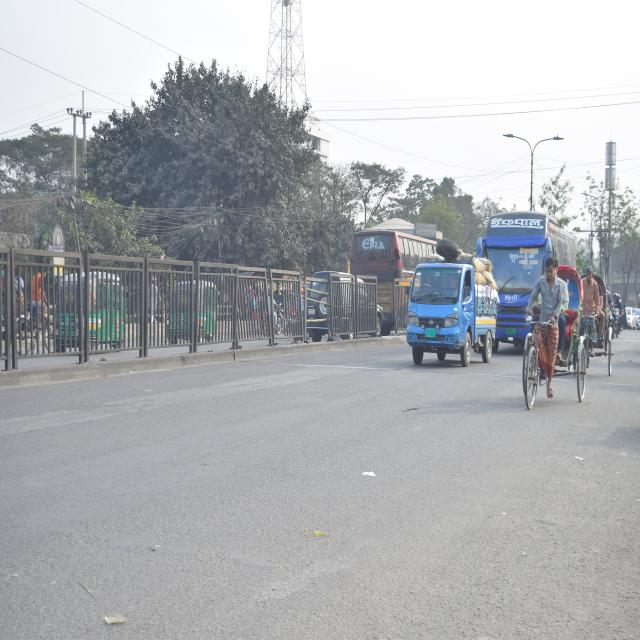bus: (484, 208, 580, 339)
car: (622, 304, 640, 332)
motorbike: (611, 300, 624, 344)
pickup-van: (402, 250, 502, 376)
